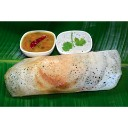dosa: (2, 54, 127, 95)
